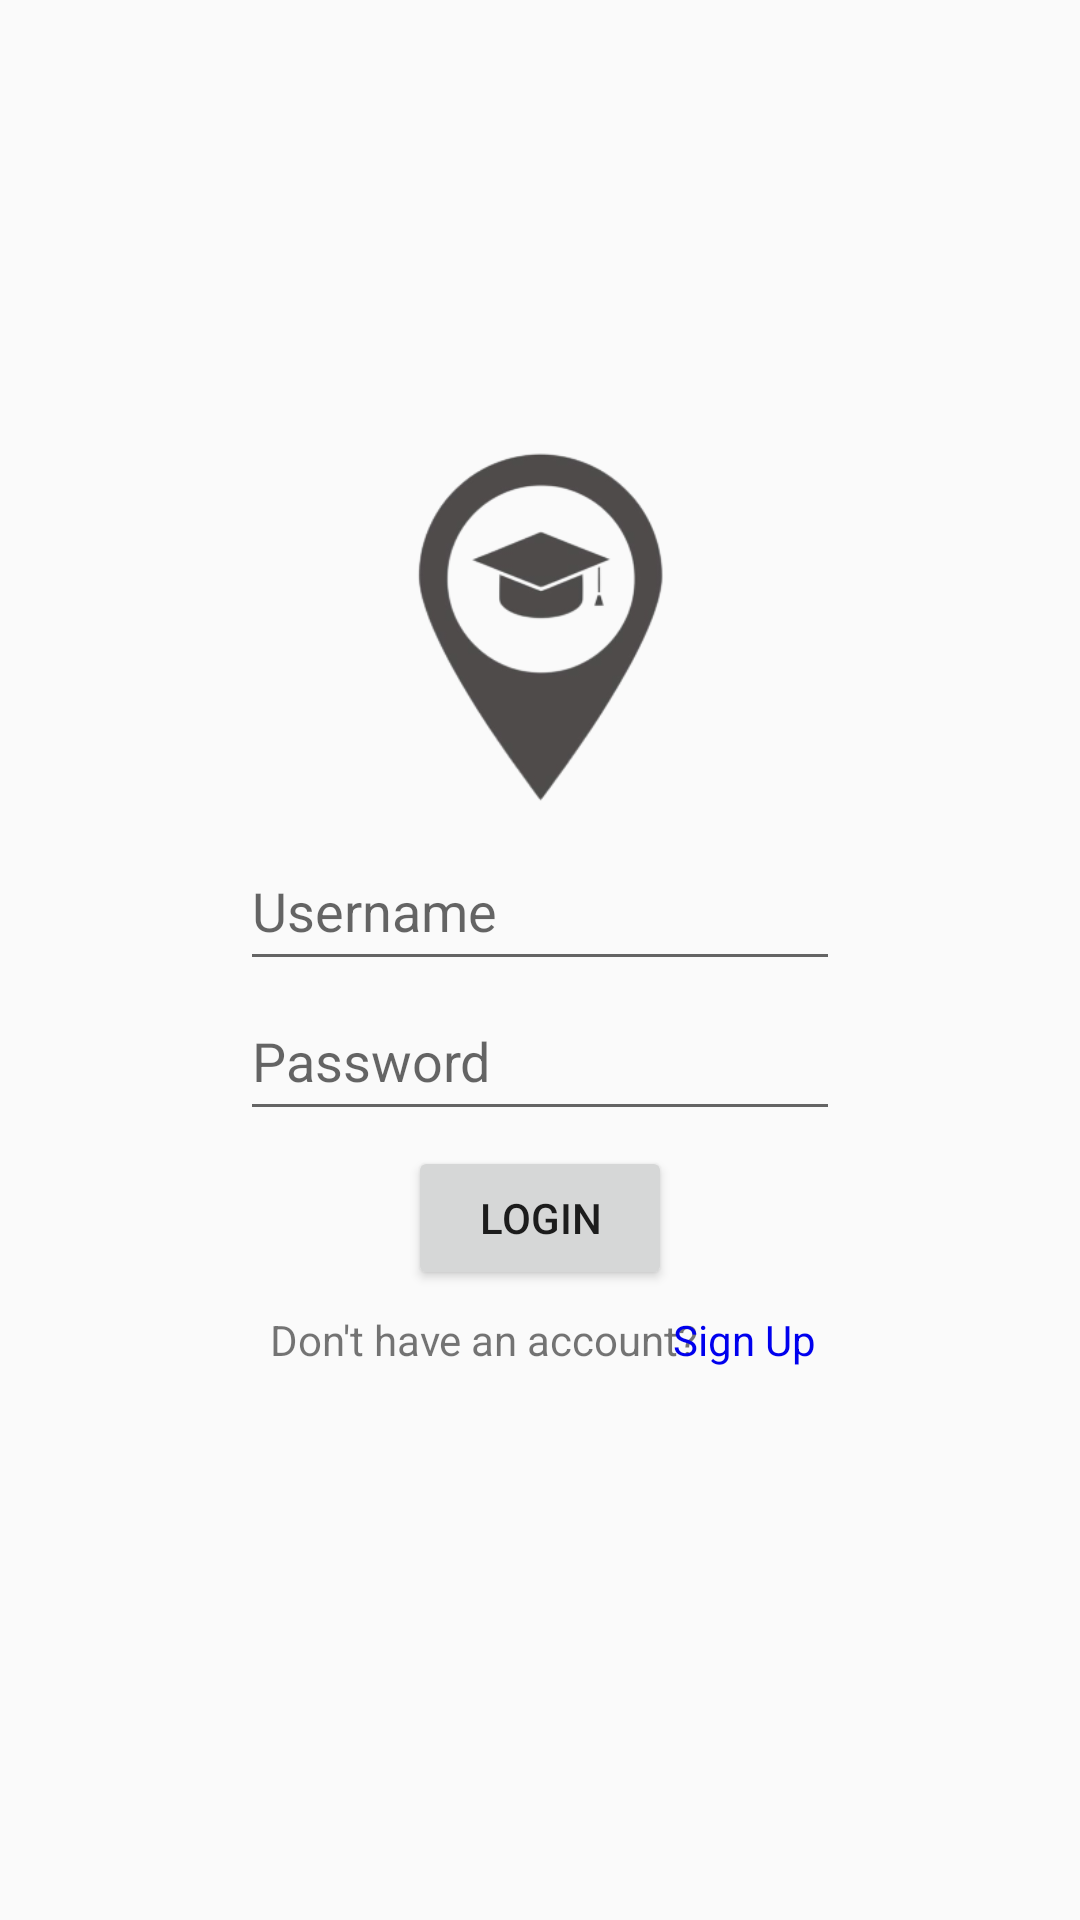

Screen size 1080px x 1920px. Icon name, then its box in pixels as bbox=[x1, y1, x2, y2]:
campusicon: bbox=[418, 453, 663, 801]
